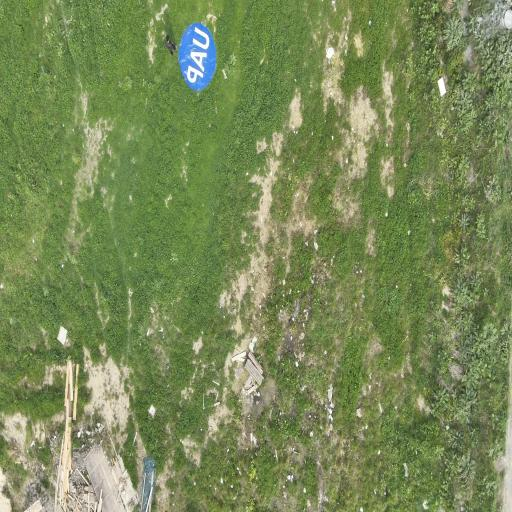UAP: (179, 23, 216, 90)
person: (166, 35, 176, 54)
